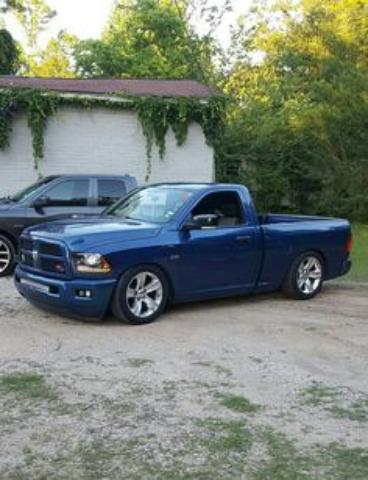pickup-truck: (12, 181, 354, 325)
